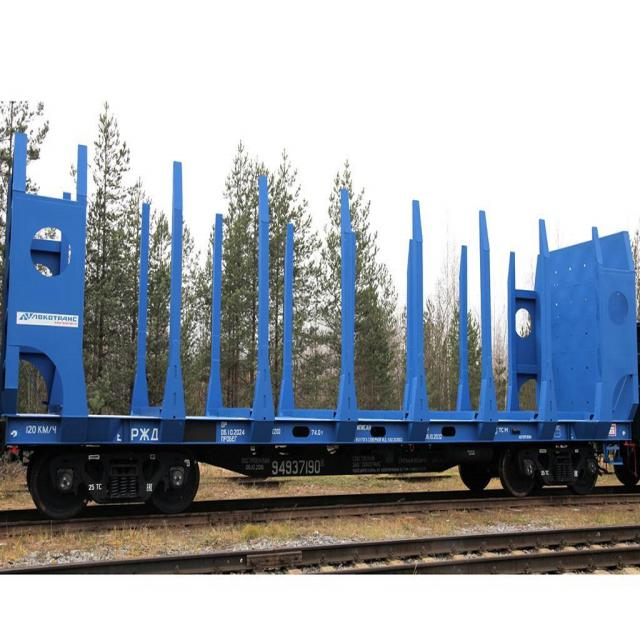flatcar_bulkhead: (0, 120, 640, 508)
